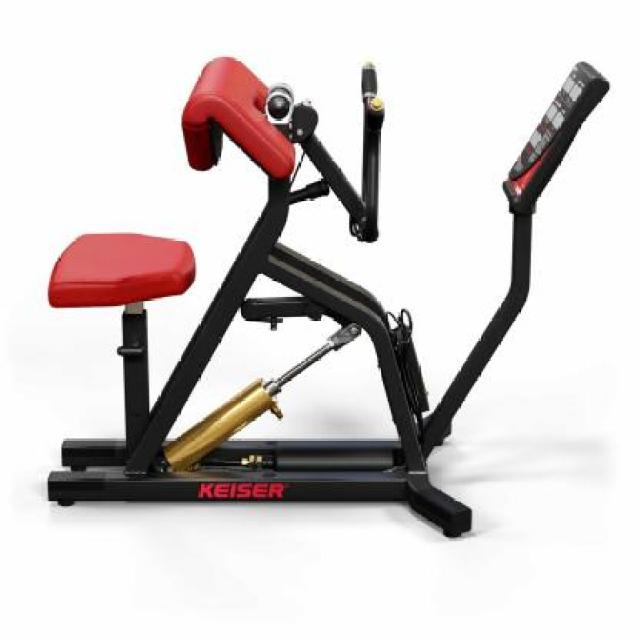arm curl machine: (49, 54, 608, 538)
